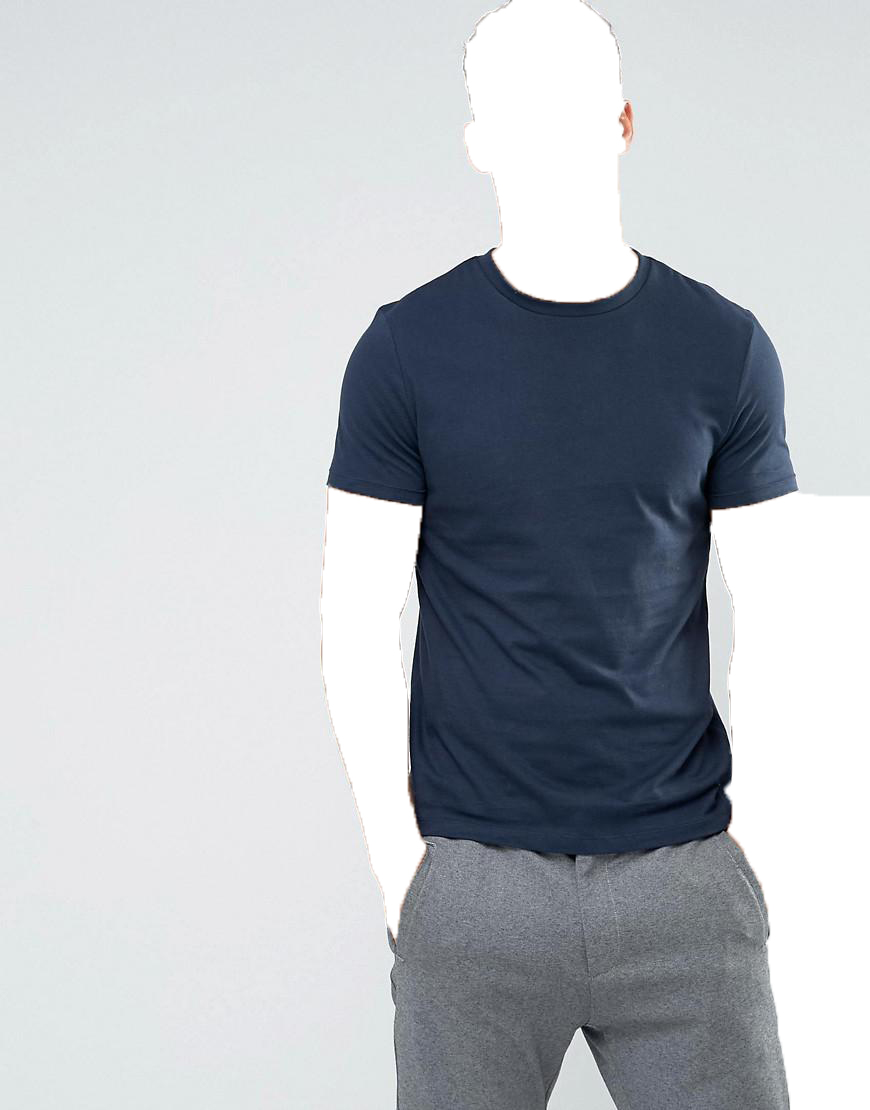teeshirt: (324, 246, 812, 854)
